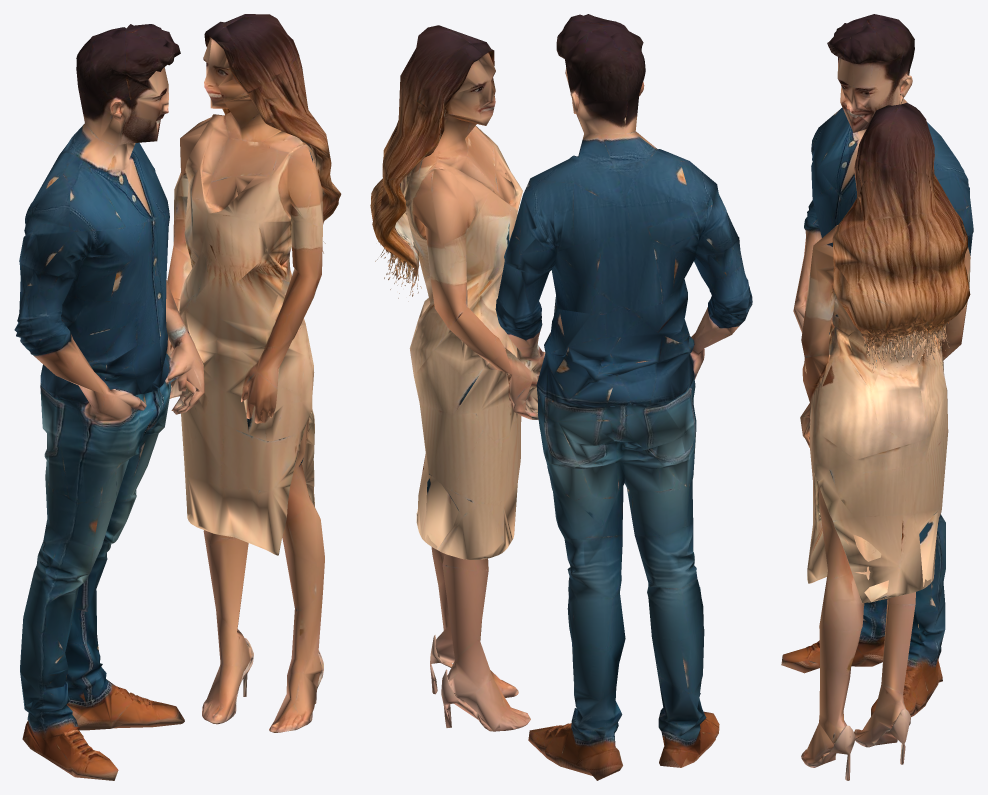
Rendered from stroll.glb.
The picture shows the model from 3 angles, left to right: view 1: azimuth 30°, elevation 25°; view 2: azimuth 150°, elevation 25°; view 3: azimuth 270°, elevation 25°; orthographic projection. The views are drawn at different scales.
Bounding box in the file's own units: 0.9414 × 1.9 × 0.4844.
Materials: 1 (1 with a texture image).
